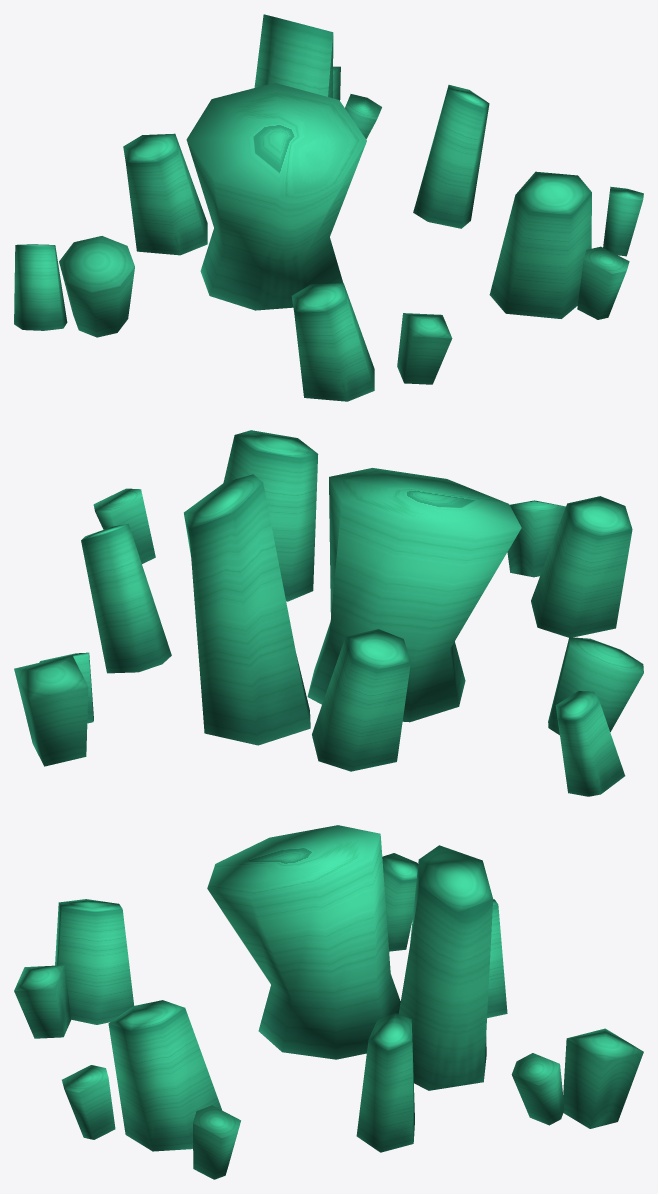
The model's file is GreenCluster1LOD.fbx.
3 renders of one model, top to bottom at view 1: azimuth 30°, elevation 25°; view 2: azimuth 150°, elevation 25°; view 3: azimuth 270°, elevation 25°, orthographic. The views are drawn at different scales.
Visible parts, largest first — view 1: GreenCluster2; view 2: GreenCluster2; view 3: GreenCluster2.
Boxes of the visible parts, x1,y1,x2,y2 form: GreenCluster2: (14, 14, 643, 401); GreenCluster2: (14, 430, 643, 796); GreenCluster2: (14, 825, 643, 1179).
Size of the model in its own units: 85.27 by 33.76 by 82.76.
